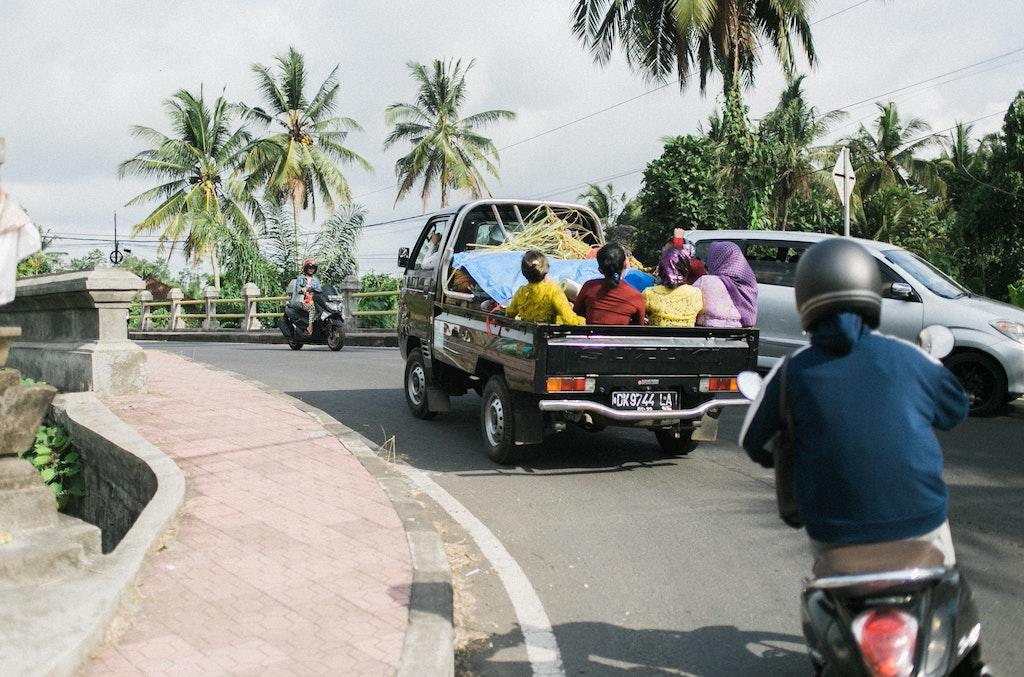helmet: (794, 237, 884, 332), (302, 259, 318, 277)
nohelmet: (596, 242, 628, 288), (658, 247, 692, 290), (705, 240, 744, 276), (520, 249, 550, 283)
